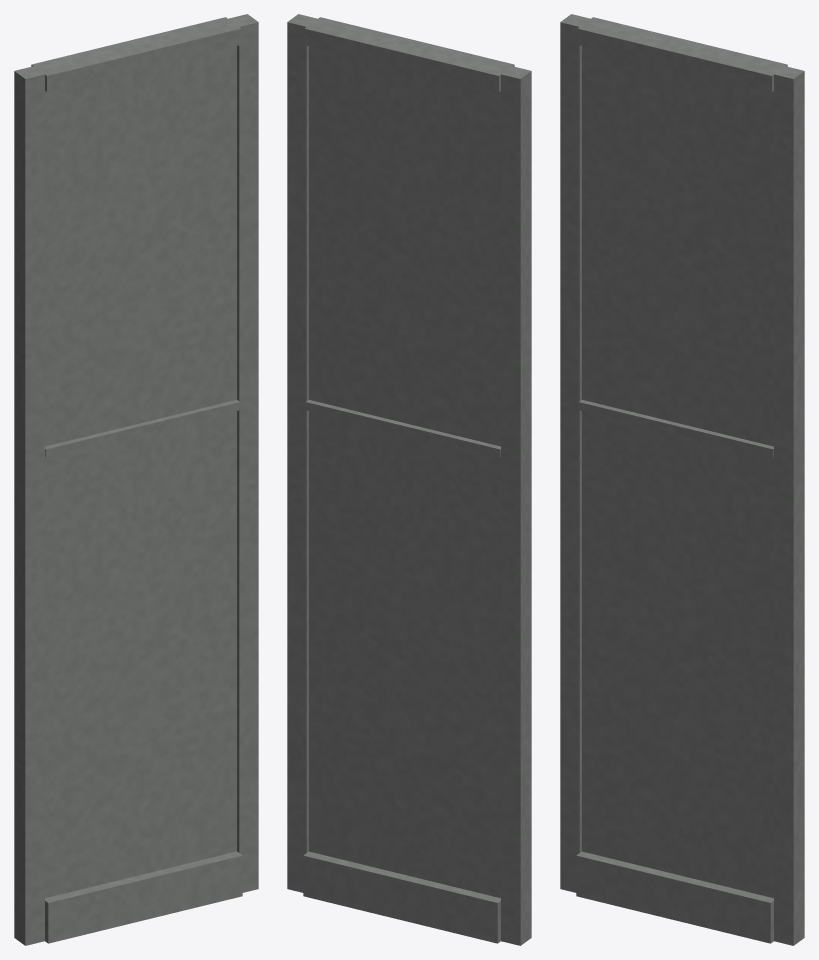
File: X14_PART_Panel_Solid_060.glb
3 renders of one model, left to right at view 1: azimuth 30°, elevation 25°; view 2: azimuth 150°, elevation 25°; view 3: azimuth 330°, elevation 25°, orthographic.
Parts seen in each view (by area): view 1: X14_PART_Panel_Solid_060_LOD0; view 2: X14_PART_Panel_Solid_060_LOD0; view 3: X14_PART_Panel_Solid_060_LOD0.
Part boxes in pixels (x1=…): X14_PART_Panel_Solid_060_LOD0: x1=14, y1=14, x2=258, y2=945; X14_PART_Panel_Solid_060_LOD0: x1=287, y1=14, x2=531, y2=945; X14_PART_Panel_Solid_060_LOD0: x1=560, y1=14, x2=804, y2=945.
Size of what is drawn, in the model's own units: 0.6 by 2.13 by 0.08.
1 material, 1 textured.
